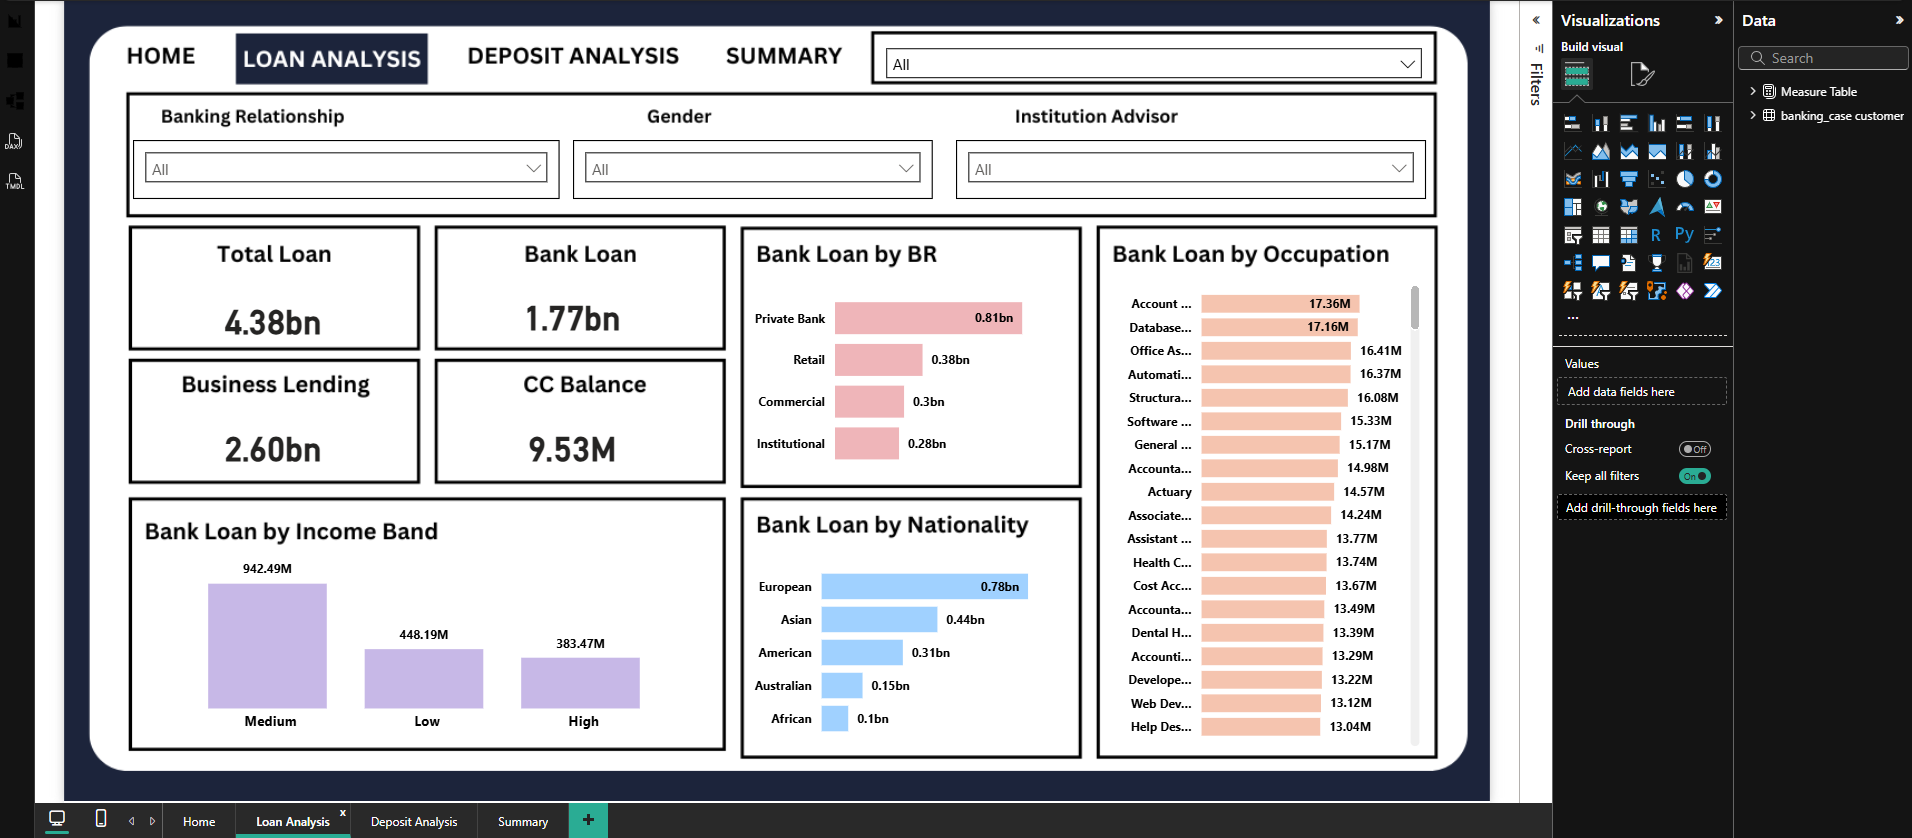

What the dashboard file says about the page in this screenshot:
{"tool":"powerbi","page":{"name":"Loan Analysis ","canvas":[1280,720],"ordinal":1},"visuals":[{"type":"slicer","fields":{"Values":["banking_case customer.Year Of Joining"]},"box":[728.1,32.3,500.9,38.6],"z":0},{"type":"actionButton","box":[358.2,28.7,196.6,46.7],"z":1},{"type":"actionButton","box":[583.5,28.7,123.9,46.7],"z":2},{"type":"actionButton","box":[154.4,28.7,172.4,46.7],"z":3},{"type":"actionButton","box":[47.6,28.7,87.1,46.7],"z":4},{"type":"cardVisual","fields":{"Data":["Measure Table.Banking Loans"]},"box":[104.1,246,167.9,61],"z":5},{"type":"cardVisual","fields":{"Data":["Sum(banking_case customer.Bank Loans)"]},"box":[372.6,242.4,167.9,64.6],"z":6},{"type":"cardVisual","fields":{"Data":["Sum(banking_case customer.Business Lending)"]},"box":[104.1,360,167.9,64.6],"z":7},{"type":"cardVisual","fields":{"Data":["Sum(banking_case customer.Credit Card Balance)"]},"box":[372.6,360,167.9,64.6],"z":8},{"type":"clusteredColumnChart","fields":{"Category":["banking_case customer.Income Band"],"Y":["Sum(banking_case customer.Bank Loans)"]},"box":[68,489.5,515.8,175.9],"z":9},{"type":"clusteredBarChart","fields":{"Category":["banking_case customer.BRId"],"Y":["Sum(banking_case customer.Bank Loans)"]},"box":[612.8,242,293.7,190.4],"z":10},{"type":"clusteredBarChart","fields":{"Category":["banking_case customer.Nationality"],"Y":["Sum(banking_case customer.Bank Loans)"]},"box":[612.8,489.5,293.7,184],"z":11},{"type":"clusteredBarChart","fields":{"Category":["banking_case customer.Occupation"],"Y":["Sum(banking_case customer.Bank Loans)"]},"box":[937.3,242,284.6,431.5],"z":12},{"type":"slicer","fields":{"Values":["banking_case customer.BRId"]},"box":[61.6,125.1,383.5,52.6],"z":16},{"type":"slicer","fields":{"Values":["banking_case customer.GenderId"]},"box":[456.9,125.1,322.7,52.6],"z":17},{"type":"slicer","fields":{"Values":["banking_case customer.IAId"]},"box":[800.5,125.1,421.5,52.6],"z":18}]}

Visuals, with their boxes on the page's 1280x720 design canvas (x1, y1, x2, y2). These are canvas units, not pixel positions in the 1912x838 screenshot, which may show the page scaled, cropped or inside an application window:
slicer - banking_case customer.Year Of Joining: [728,32,1229,71]
actionButton: [358,29,555,75]
actionButton: [584,29,707,75]
actionButton: [154,29,327,75]
actionButton: [48,29,135,75]
cardVisual - Measure Table.Banking Loans: [104,246,272,307]
cardVisual - Sum(banking_case customer.Bank Loans): [373,242,540,307]
cardVisual - Sum(banking_case customer.Business Lending): [104,360,272,425]
cardVisual - Sum(banking_case customer.Credit Card Balance): [373,360,540,425]
clusteredColumnChart - banking_case customer.Income Band x Sum(banking_case customer.Bank Loans): [68,490,584,665]
clusteredBarChart - banking_case customer.BRId x Sum(banking_case customer.Bank Loans): [613,242,906,432]
clusteredBarChart - banking_case customer.Nationality x Sum(banking_case customer.Bank Loans): [613,490,906,674]
clusteredBarChart - banking_case customer.Occupation x Sum(banking_case customer.Bank Loans): [937,242,1222,674]
slicer - banking_case customer.BRId: [62,125,445,178]
slicer - banking_case customer.GenderId: [457,125,780,178]
slicer - banking_case customer.IAId: [800,125,1222,178]
